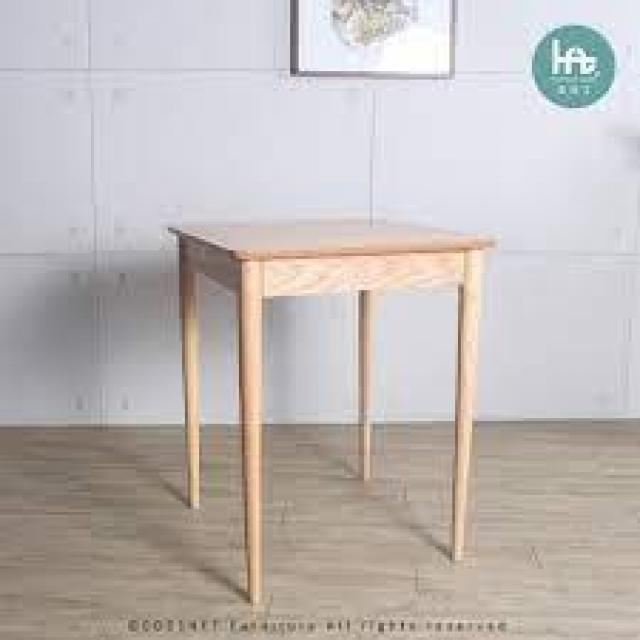table: (81, 124, 539, 593)
